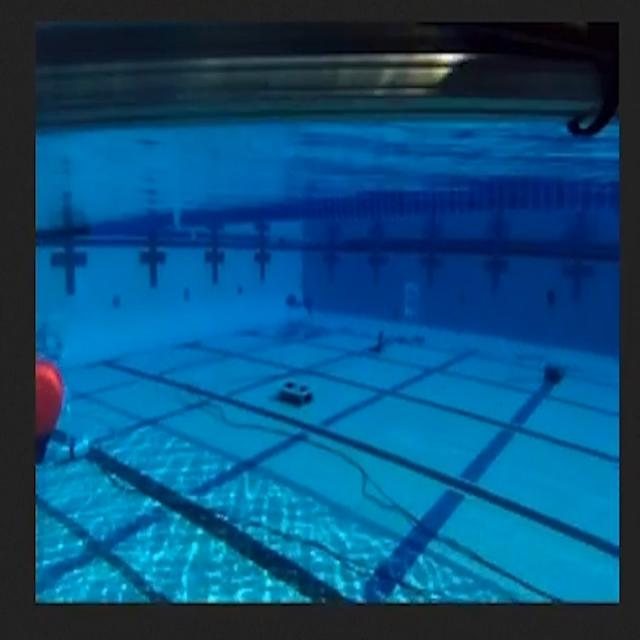Buoy: (38, 358, 61, 466)
